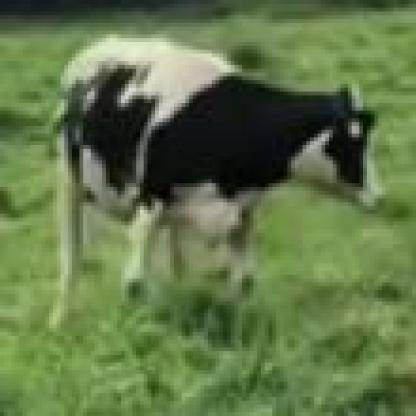cow: (53, 40, 386, 326)
